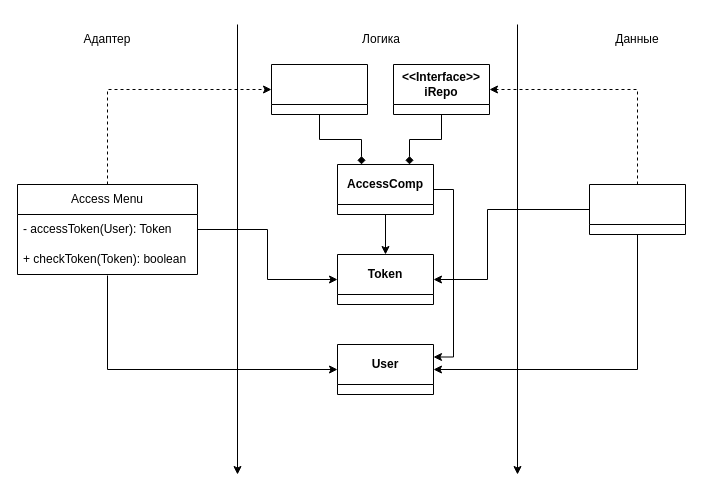
The diagram is 703 pixels wide and 500 high, and some of its shapes have lost their labels. The box of each missing label's shape, as (x1, y1, x2, y2) in pixels:
<<Interface>> iAccess: (270, 64, 368, 114)
Access Repo: (588, 184, 686, 234)
